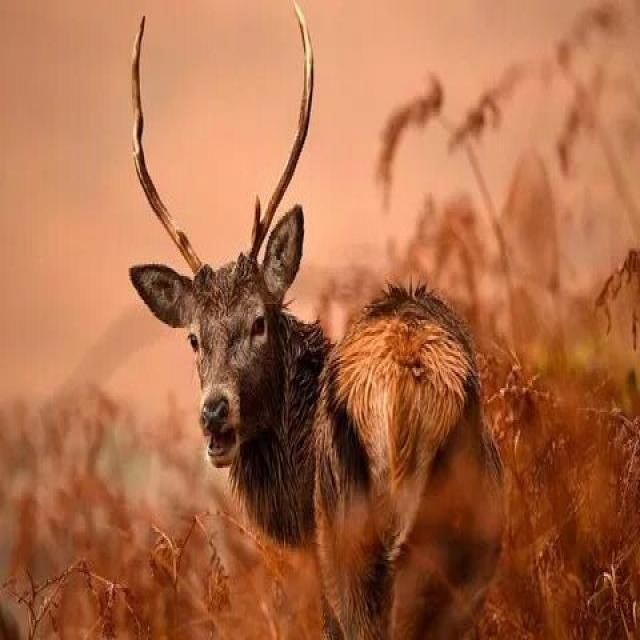deer: (155, 139, 513, 638)
